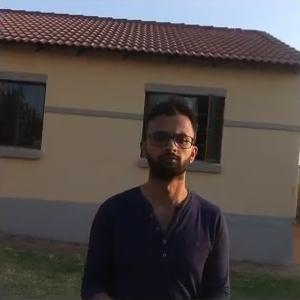follow: (76, 90, 235, 298)
